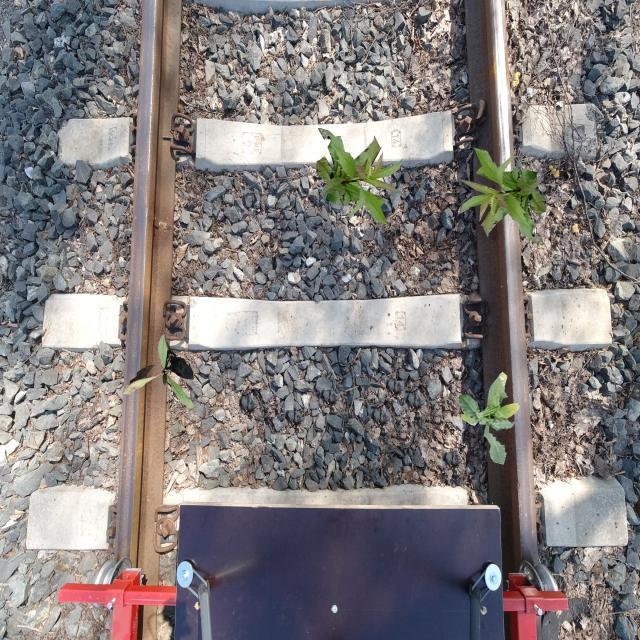Plant: (316, 128, 404, 226), (458, 147, 546, 244), (458, 371, 520, 464), (122, 334, 194, 408)
